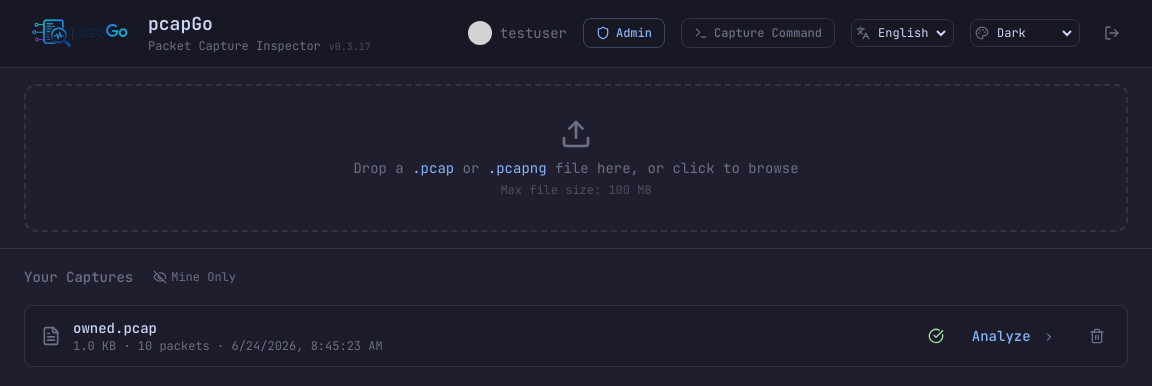
Scenario: DashboardPage › passes owner filter and renders owner login for admin all-captures view
This screenshot has width=1152, height=386.
Click the button "Mine Only" at (195, 277), box [145, 265, 244, 289]
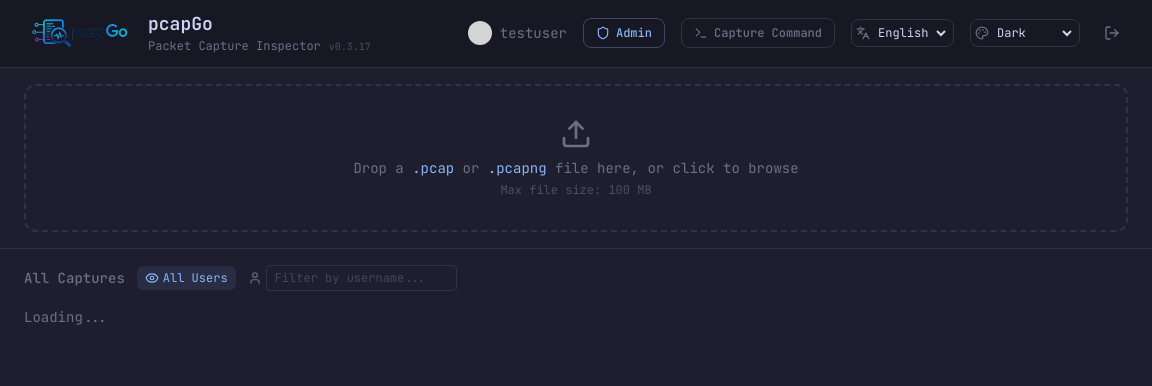
Type "alice" into the field with placeholder "Filter by username..." at (361, 278), box [266, 265, 457, 291]
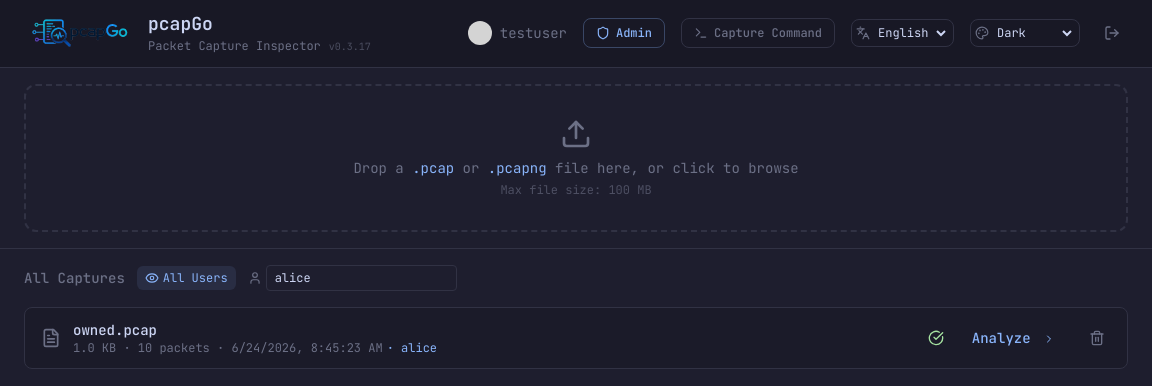
Check: the text "· alice" is shown, box [387, 340, 437, 356]
